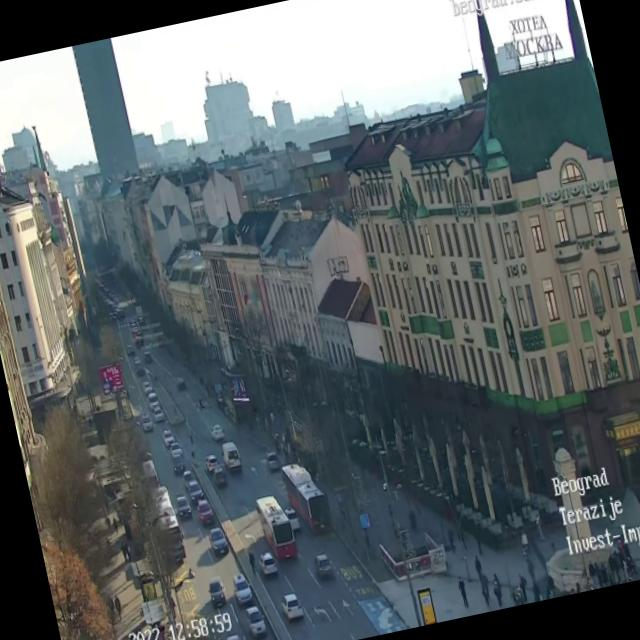bus: (278, 457, 334, 538), (148, 480, 187, 568), (254, 491, 298, 563)
car: (241, 600, 268, 636), (278, 590, 304, 622), (206, 520, 230, 554), (230, 569, 251, 601), (220, 441, 242, 470), (208, 574, 226, 609), (256, 550, 278, 577), (312, 552, 333, 580), (175, 496, 193, 522), (186, 478, 202, 503), (140, 409, 156, 434), (212, 465, 228, 489), (221, 626, 247, 640), (170, 446, 184, 472), (211, 422, 228, 443), (196, 498, 213, 518), (162, 428, 176, 448), (204, 454, 218, 473), (152, 405, 166, 424), (147, 389, 161, 407), (183, 472, 197, 489)
